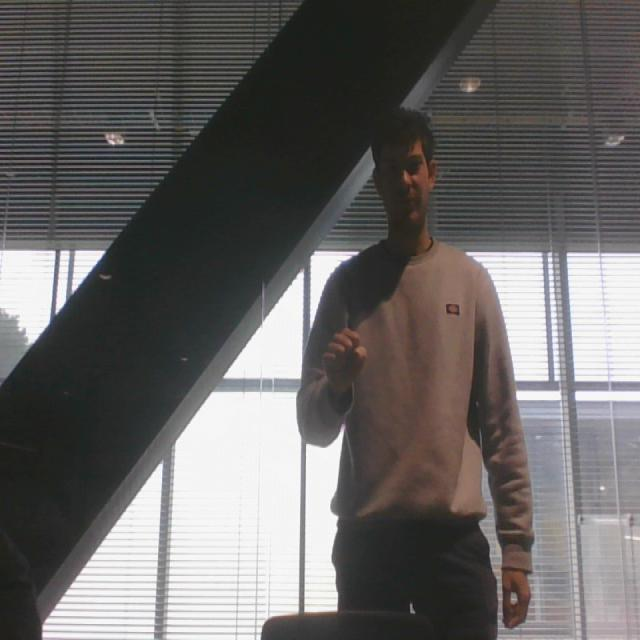stop: (319, 319, 368, 413)
